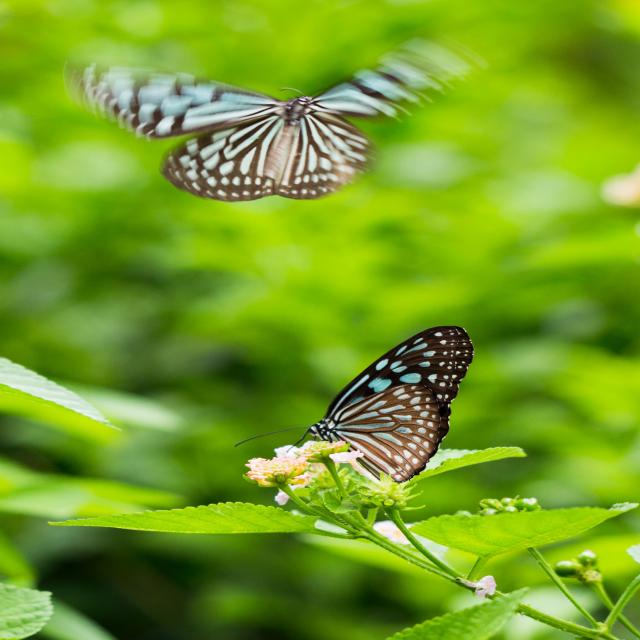animal: (69, 57, 462, 199), (254, 326, 478, 485)
